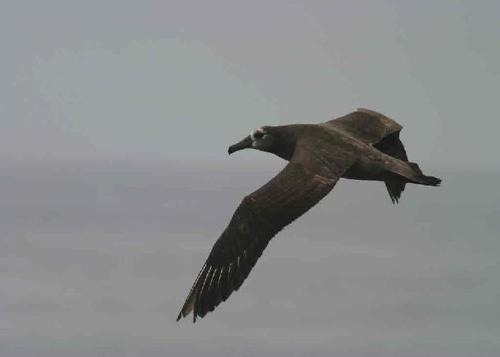001.Black_footed_Albatross: (178, 107, 445, 326)
